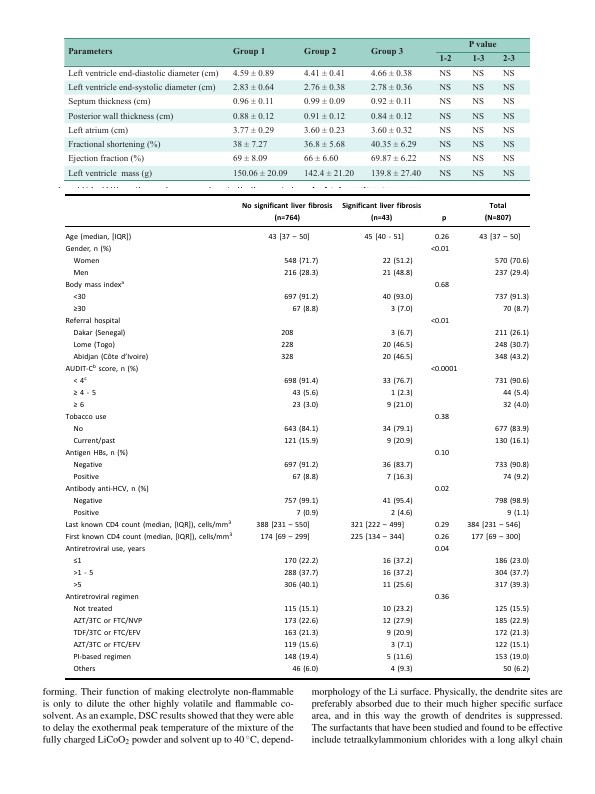borderless: (65, 193, 529, 678), (63, 36, 530, 180)
cell: (241, 201, 333, 222), (65, 531, 233, 542), (65, 519, 232, 530), (341, 201, 422, 222), (66, 69, 219, 79), (66, 83, 216, 93), (66, 112, 174, 122), (66, 140, 161, 150), (66, 97, 151, 108), (66, 169, 152, 179), (66, 154, 144, 165), (65, 363, 139, 374), (65, 485, 150, 494), (65, 545, 146, 554), (72, 640, 141, 650), (73, 353, 149, 362), (65, 593, 140, 602), (65, 279, 125, 290), (72, 617, 143, 626), (72, 629, 142, 638), (66, 126, 128, 136), (65, 233, 132, 242), (484, 201, 512, 222), (65, 449, 129, 458), (232, 169, 288, 179), (72, 653, 132, 662), (370, 154, 417, 165), (303, 169, 354, 179), (370, 169, 421, 179), (65, 317, 121, 326), (255, 521, 311, 530), (350, 521, 405, 530), (466, 521, 521, 530), (350, 533, 405, 542), (73, 329, 126, 338), (370, 140, 417, 150), (259, 533, 311, 542), (232, 97, 274, 108), (303, 97, 345, 108), (370, 97, 412, 108), (67, 48, 113, 58), (470, 533, 521, 542), (65, 245, 112, 254), (232, 69, 274, 79), (303, 69, 345, 79), (370, 69, 412, 79), (232, 83, 274, 93), (303, 83, 345, 93), (370, 83, 412, 93), (232, 112, 274, 122), (303, 112, 345, 122), (370, 112, 412, 122), (232, 126, 274, 136), (303, 126, 345, 136), (370, 126, 412, 136), (303, 140, 345, 150), (72, 604, 113, 614), (232, 154, 268, 165), (303, 154, 339, 165), (268, 233, 311, 242), (478, 233, 521, 242), (73, 341, 116, 350), (65, 413, 108, 422), (73, 437, 116, 446), (364, 233, 405, 242), (283, 496, 319, 506), (494, 496, 530, 506), (283, 604, 319, 614), (494, 604, 530, 614), (283, 640, 319, 650), (494, 640, 530, 650), (232, 140, 268, 150), (369, 48, 404, 58), (232, 48, 266, 58), (303, 48, 337, 58), (283, 257, 319, 266), (494, 257, 530, 266), (283, 269, 319, 278), (494, 269, 530, 278), (283, 293, 319, 302), (494, 293, 530, 302), (494, 329, 530, 338), (494, 341, 530, 350), (494, 353, 530, 362), (283, 377, 319, 386), (494, 377, 530, 386), (283, 425, 319, 434), (494, 425, 530, 434), (283, 437, 319, 446), (494, 437, 530, 446), (283, 461, 319, 470), (494, 461, 530, 470), (283, 557, 319, 566), (494, 557, 530, 566), (283, 569, 319, 578), (494, 569, 530, 578), (283, 581, 319, 590), (494, 581, 530, 590), (283, 617, 319, 626), (494, 617, 530, 626), (283, 629, 319, 638), (494, 629, 530, 638), (283, 653, 319, 662), (494, 653, 530, 662), (382, 496, 414, 506), (382, 604, 414, 614), (72, 496, 103, 506), (467, 41, 497, 51), (382, 257, 414, 266), (382, 269, 414, 278), (382, 293, 414, 302), (382, 341, 414, 350), (382, 353, 414, 362), (382, 377, 414, 386), (382, 425, 414, 434), (382, 461, 414, 470), (382, 557, 414, 566), (382, 569, 414, 578), (382, 581, 414, 590), (382, 617, 414, 626), (72, 461, 103, 470), (291, 305, 319, 314), (502, 305, 530, 314), (430, 365, 458, 374), (291, 389, 319, 398), (502, 389, 530, 398), (291, 401, 319, 410), (386, 401, 414, 410), (502, 401, 530, 410), (386, 437, 414, 446), (72, 473, 100, 482), (291, 473, 319, 482), (386, 473, 414, 482), (502, 473, 530, 482), (72, 509, 100, 518), (386, 629, 414, 638), (386, 653, 414, 662), (291, 665, 319, 674), (502, 665, 530, 674), (73, 257, 100, 266), (390, 640, 414, 650), (72, 389, 97, 398), (72, 665, 97, 674), (390, 305, 414, 314), (390, 329, 414, 338), (390, 389, 414, 398), (390, 509, 414, 518), (506, 509, 530, 518), (390, 665, 414, 674), (296, 509, 319, 518), (73, 569, 94, 578), (430, 245, 450, 254), (430, 317, 450, 326), (72, 375, 88, 386), (438, 97, 452, 108), (471, 97, 485, 108), (438, 154, 452, 165), (471, 154, 485, 165), (73, 269, 90, 278), (434, 233, 450, 242), (434, 281, 450, 290), (434, 413, 450, 422), (434, 449, 450, 458), (434, 485, 450, 494), (434, 521, 450, 530), (434, 533, 450, 542), (434, 545, 450, 554), (434, 593, 450, 602), (502, 97, 515, 108), (502, 154, 515, 165), (438, 55, 452, 65), (471, 55, 485, 65), (501, 55, 515, 65), (438, 69, 452, 79), (471, 69, 485, 79), (438, 83, 452, 93), (471, 83, 485, 93), (438, 112, 452, 122), (471, 112, 485, 122), (438, 126, 452, 136), (471, 126, 485, 136), (438, 140, 452, 150), (471, 140, 485, 150), (438, 169, 452, 179), (471, 169, 485, 179), (502, 69, 515, 79), (502, 83, 515, 93), (502, 112, 515, 122), (502, 126, 515, 136), (502, 140, 515, 150), (502, 169, 515, 179), (73, 293, 87, 302), (73, 305, 87, 314), (280, 329, 294, 338), (280, 341, 294, 350), (280, 353, 294, 362), (73, 401, 85, 410), (73, 425, 84, 434), (72, 581, 83, 590), (73, 557, 83, 566), (441, 213, 447, 222)
